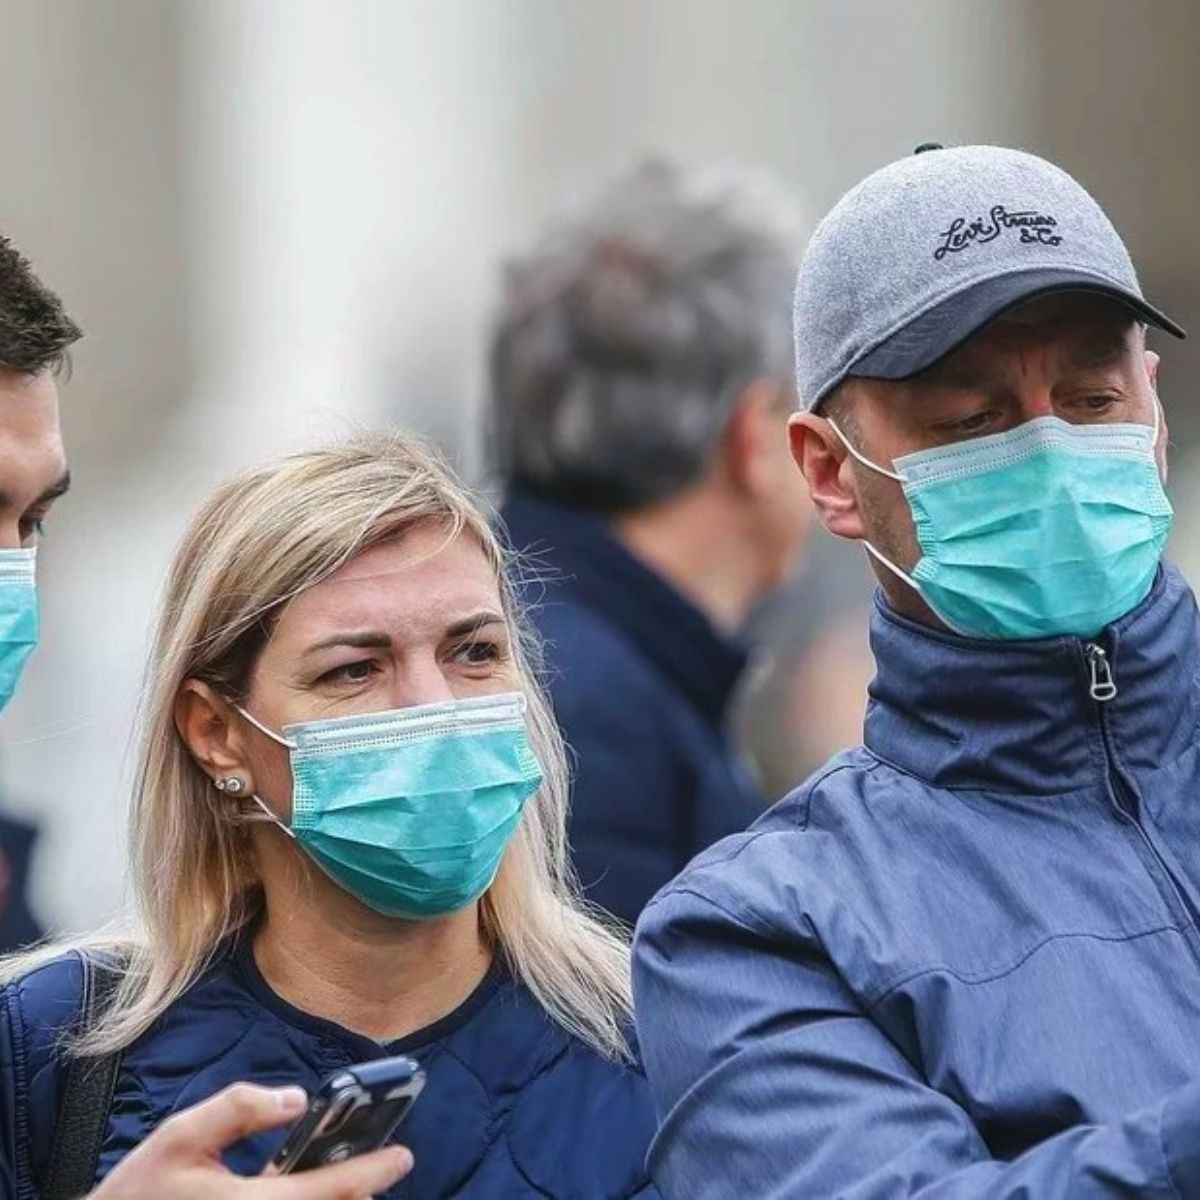barbijo: (809, 407, 1184, 641), (208, 677, 555, 918)
